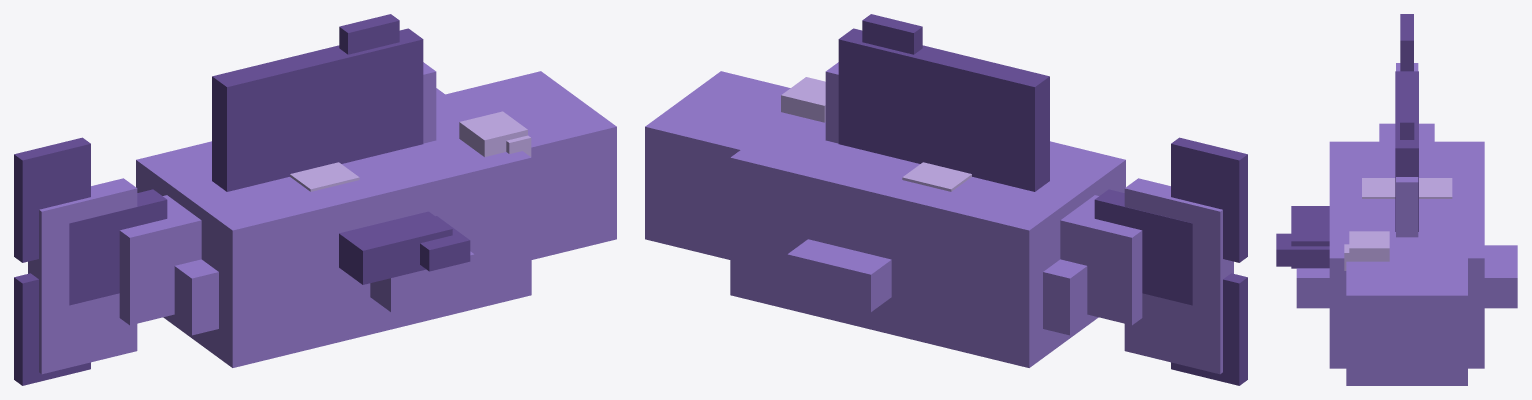
File: fish_prism_veil.glb
3 renders of one model, left to right at view 1: azimuth 30°, elevation 25°; view 2: azimuth 150°, elevation 25°; view 3: azimuth 270°, elevation 25°, orthographic. The views are drawn at different scales.
Parts seen in each view (by area): view 1: FishArt_body, FishArt_dorsal, FishArt_tail, FishArt_pectoral, FishArt_eye, FishArt_specialty; view 2: FishArt_body, FishArt_dorsal, FishArt_tail, FishArt_eye, FishArt_specialty; view 3: FishArt_body, FishArt_pectoral, FishArt_dorsal, FishArt_specialty, FishArt_eye, FishArt_tail.
Boxes of the visible parts, bbox=[...] form: FishArt_body: bbox=[28, 62, 616, 374]; FishArt_dorsal: bbox=[212, 14, 423, 191]; FishArt_tail: bbox=[14, 137, 167, 385]; FishArt_pectoral: bbox=[339, 211, 470, 284]; FishArt_eye: bbox=[459, 111, 531, 156]; FishArt_specialty: bbox=[290, 162, 359, 191]; FishArt_body: bbox=[645, 62, 1233, 374]; FishArt_dorsal: bbox=[838, 14, 1049, 191]; FishArt_tail: bbox=[1094, 137, 1247, 385]; FishArt_eye: bbox=[781, 77, 825, 122]; FishArt_specialty: bbox=[902, 162, 971, 191]; FishArt_body: bbox=[1296, 63, 1517, 385]; FishArt_pectoral: bbox=[1276, 206, 1329, 268]; FishArt_dorsal: bbox=[1395, 71, 1418, 231]; FishArt_specialty: bbox=[1362, 178, 1452, 198]; FishArt_eye: bbox=[1344, 231, 1389, 270]; FishArt_tail: bbox=[1400, 14, 1413, 71].
Size of the model in its own units: 0.3091 by 0.1442 by 0.1439.
